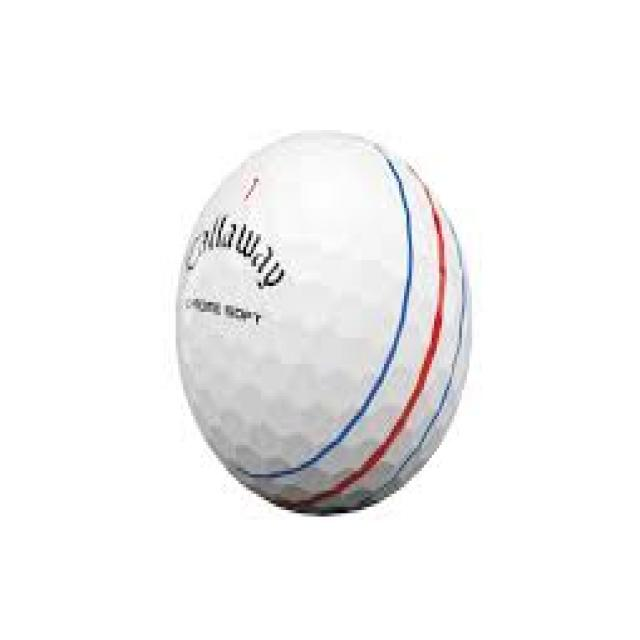golfball: (173, 88, 552, 549)
